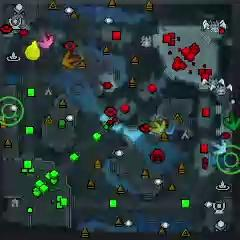p4: (25, 40, 41, 61)
x1: (39, 32, 55, 48)
x2: (151, 118, 165, 134)
x3: (212, 138, 227, 156)
x4: (223, 110, 240, 131)
x5: (61, 52, 81, 69)
